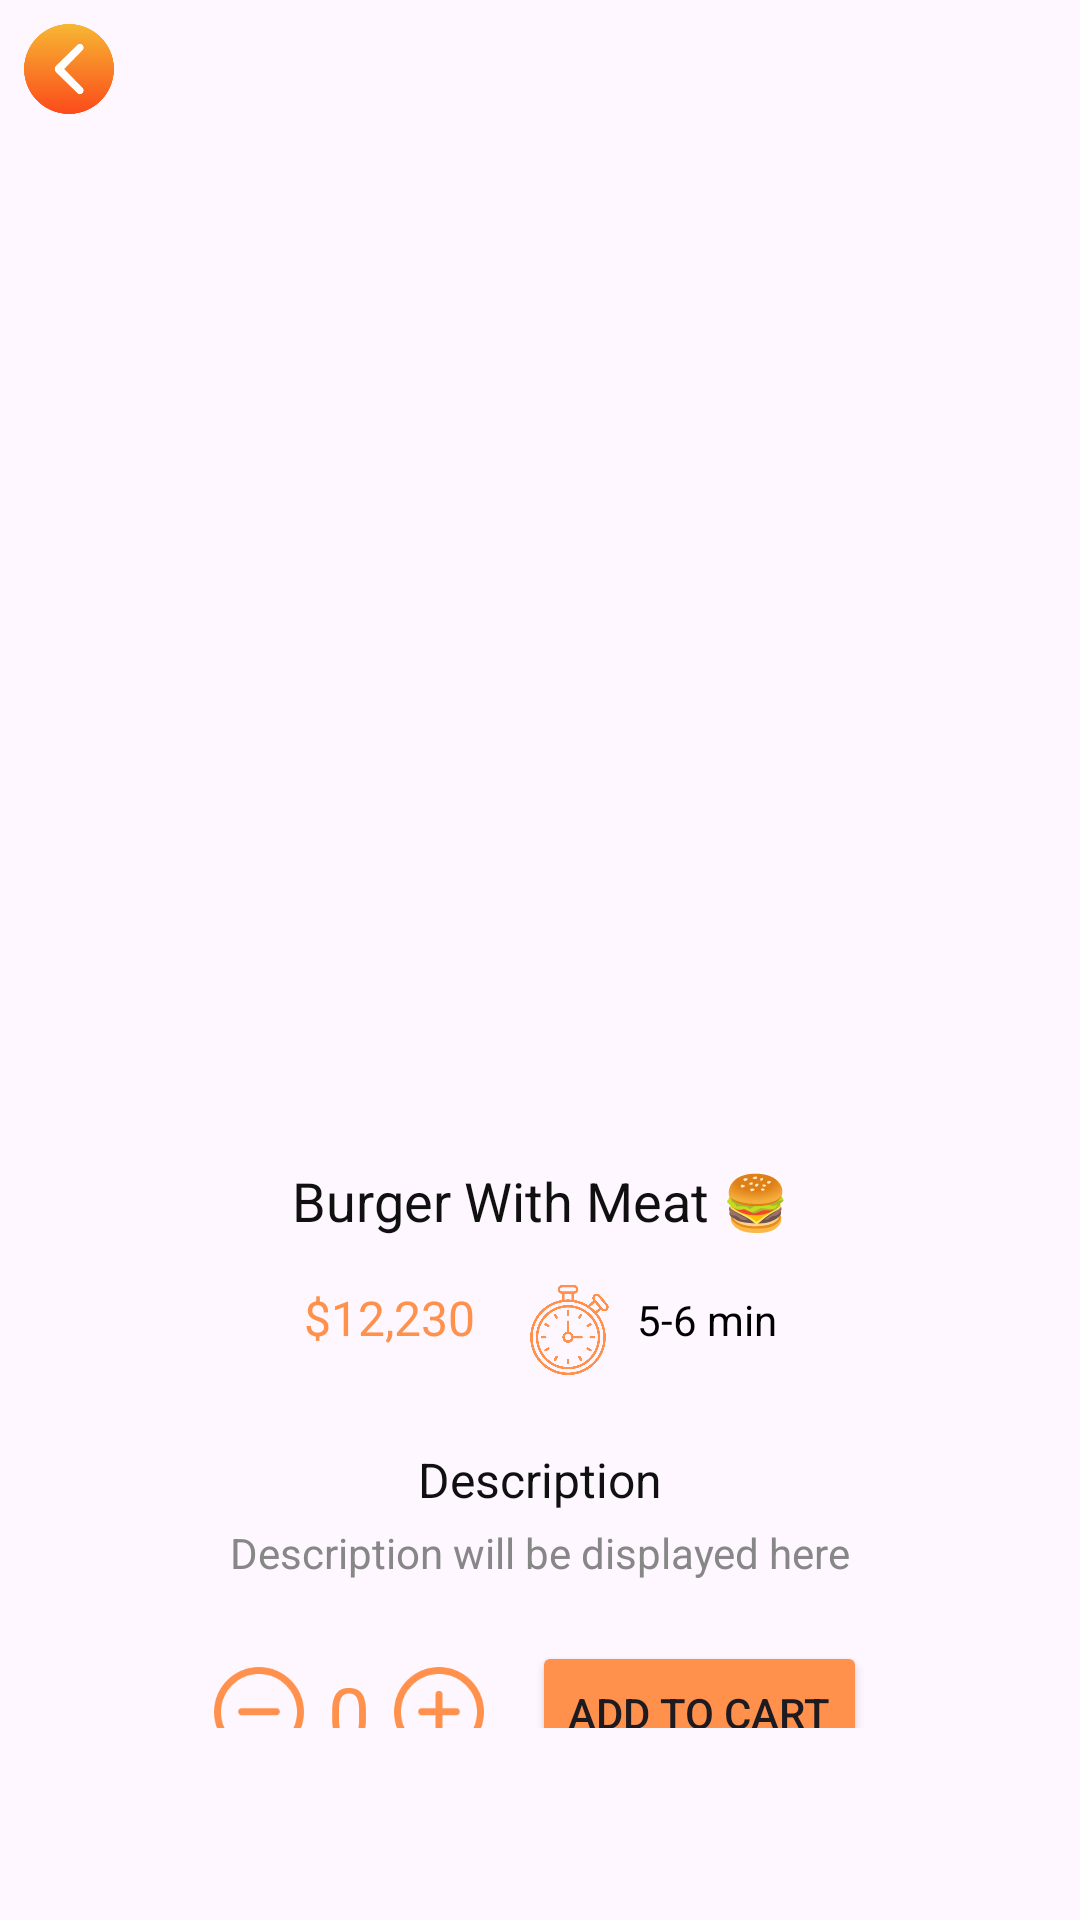

Named icons in this screenshot (1080 × 1920) and their centers, (x,y):
back: (69,69)
countdown: (569,1330)
